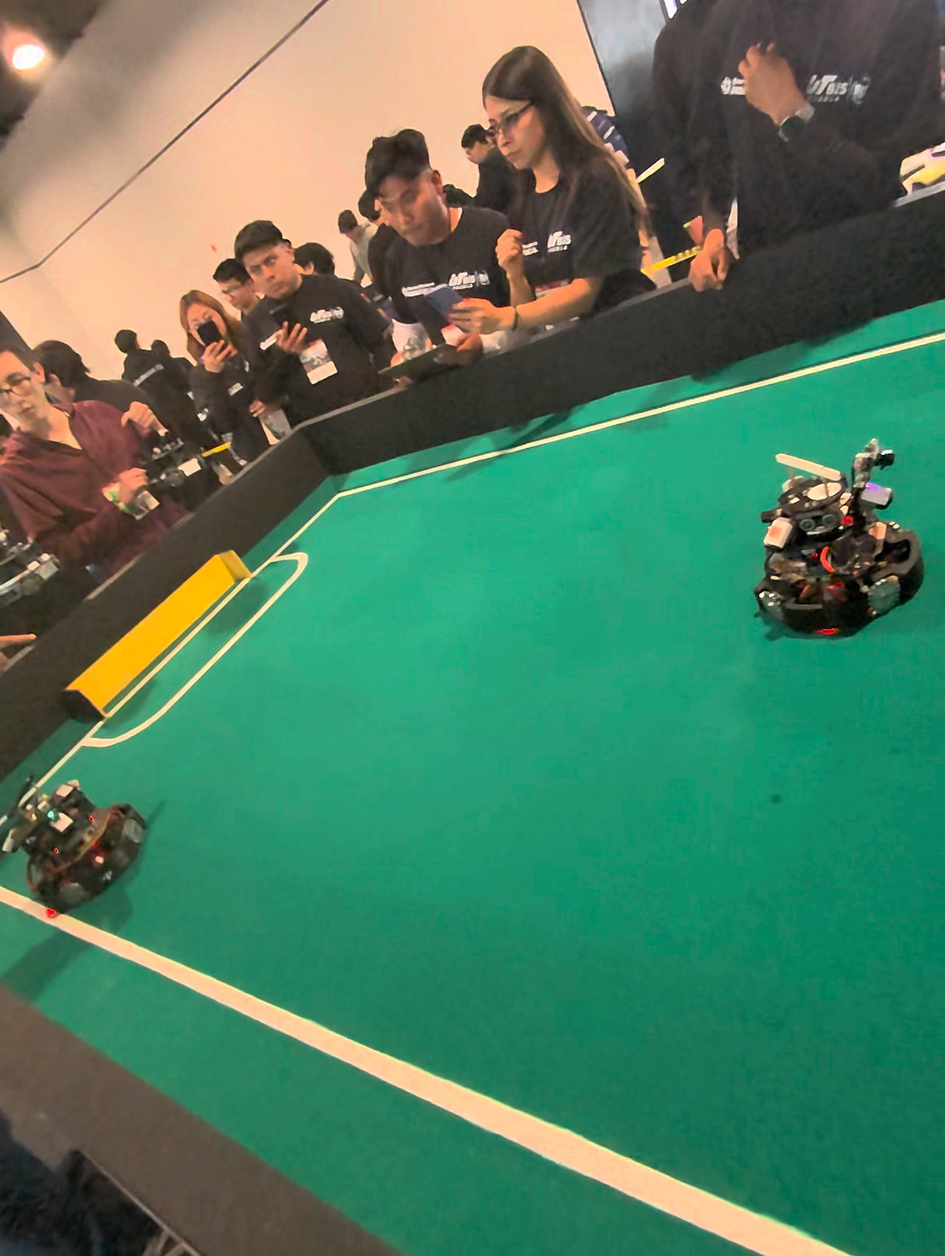Robot: (734, 444, 927, 640), (8, 783, 147, 901)
